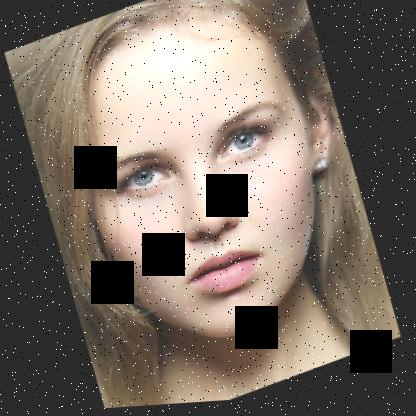Female: (40, 0, 380, 374)
